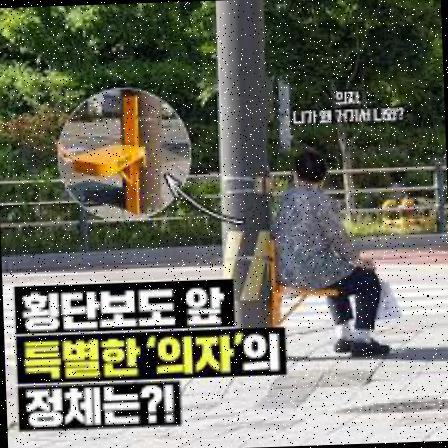silver: (273, 148, 387, 360)
